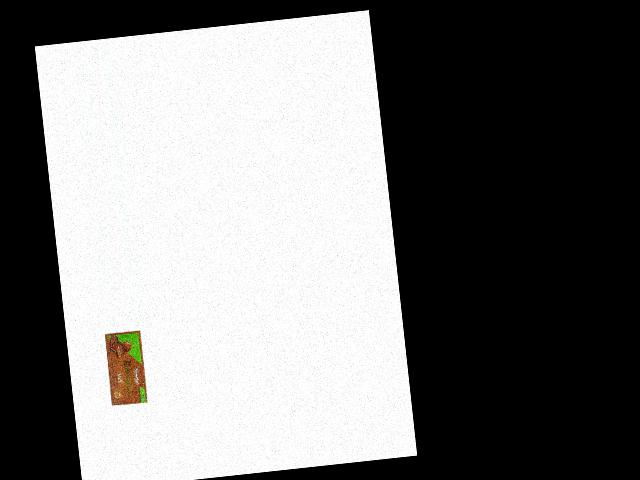chocolate: (100, 328, 149, 409)
